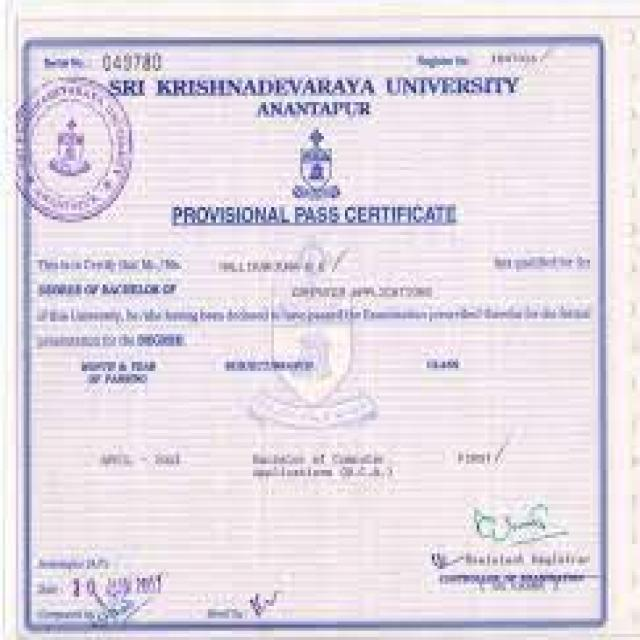degree: (39, 276, 187, 304)
signature: (463, 494, 594, 572)
stamp: (12, 81, 135, 226)
